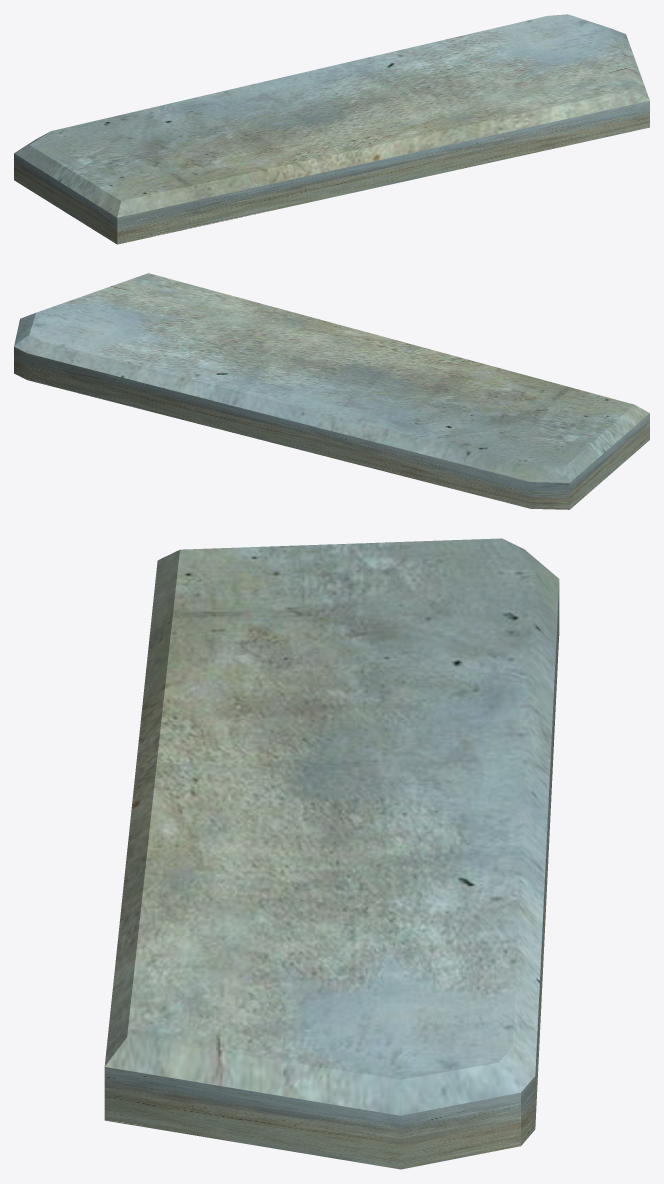
The model's file is mod7.FBX.
3 renders of one model, top to bottom at view 1: azimuth 30°, elevation 25°; view 2: azimuth 150°, elevation 25°; view 3: azimuth 270°, elevation 25°, orthographic. The views are drawn at different scales.
Visible parts, largest first — view 1: Box006; view 2: Box006; view 3: Box006.
Boxes of the visible parts, x1,y1,x2,y2 form: Box006: (14, 14, 649, 244); Box006: (14, 273, 649, 509); Box006: (104, 538, 559, 1169).
Size of the model in its own units: 164 by 55.69 by 10.
1 material, 1 textured.
